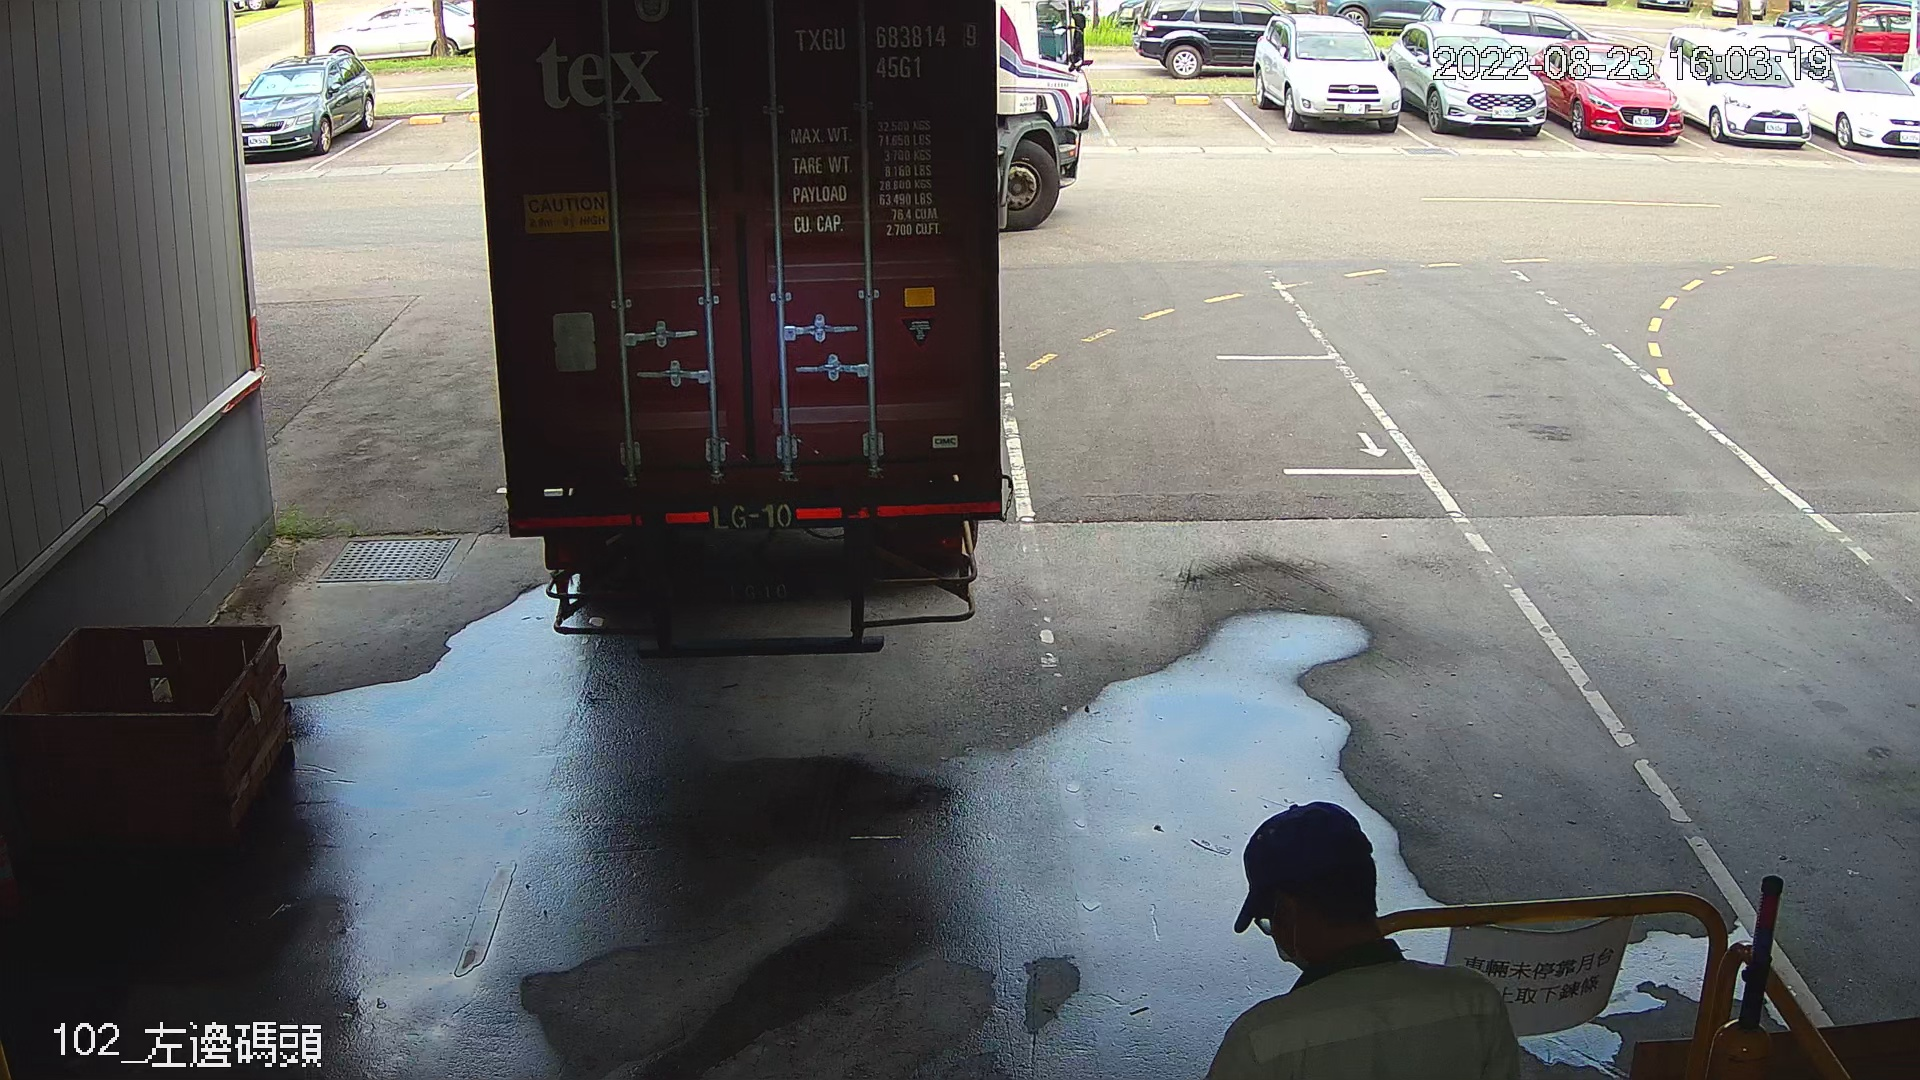container: (789, 16, 986, 88)
